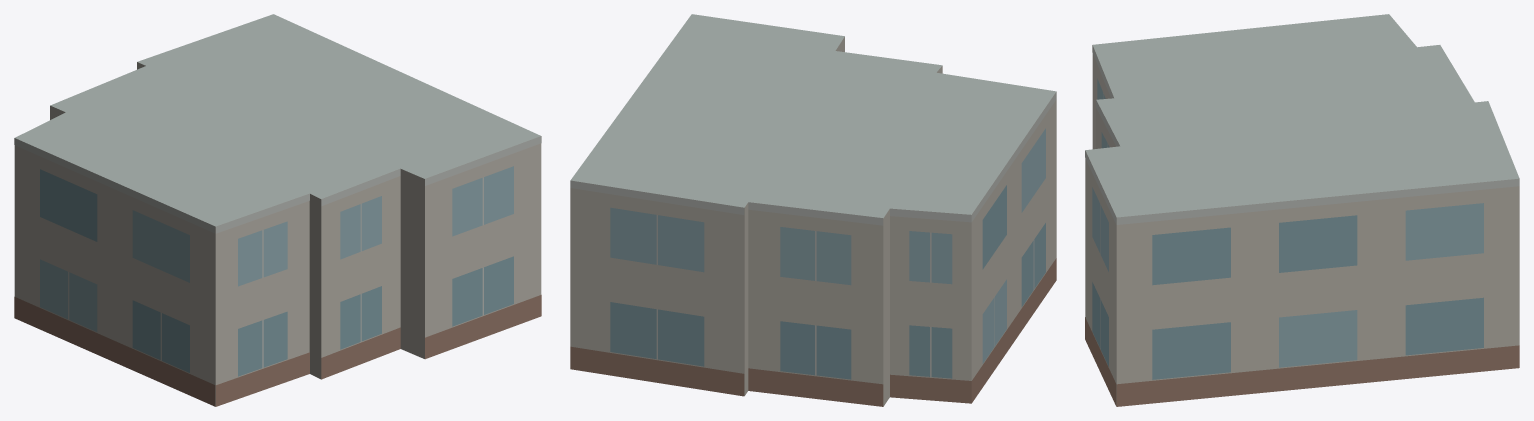
The model's file is survey-upis-32893209.glb.
3 renders of one model, left to right at view 1: azimuth 30°, elevation 25°; view 2: azimuth 150°, elevation 25°; view 3: azimuth 270°, elevation 25°, orthographic. The views are drawn at different scales.
Parts seen in each view (by area): view 1: survey-upis-32893209.tmp; view 2: survey-upis-32893209.tmp; view 3: survey-upis-32893209.tmp.
Part boxes in pixels (x1,y1,x2,y2): survey-upis-32893209.tmp: (14, 14, 541, 406); survey-upis-32893209.tmp: (570, 14, 1056, 406); survey-upis-32893209.tmp: (1085, 14, 1519, 406).
Bounding box in the file's own units: 14.07 × 6.1 × 12.7.
